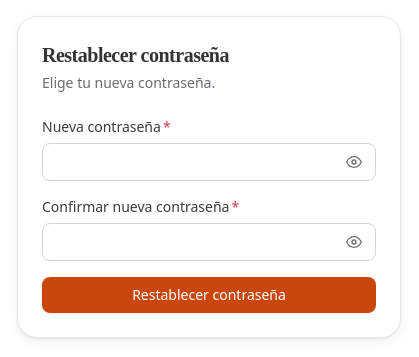
Test: ResetPasswordPage › restablece la contraseña con el token de la URL y muestra la confirmación de éxito
The width and height of the screenshot is (419, 357).
In the password field labelled "Nueva contraseña*": point(209, 162) 42,143 -> 376,181, type "nuevaClave1"
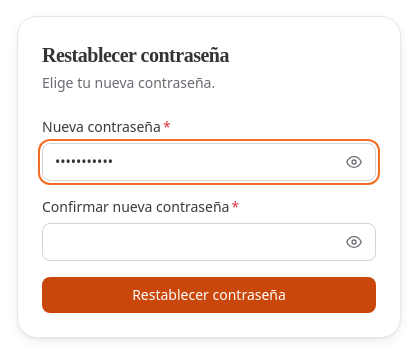
In the password field labelled "Confirmar nueva contraseña*": point(209, 242) 42,223 -> 376,261, type "nuevaClave1"
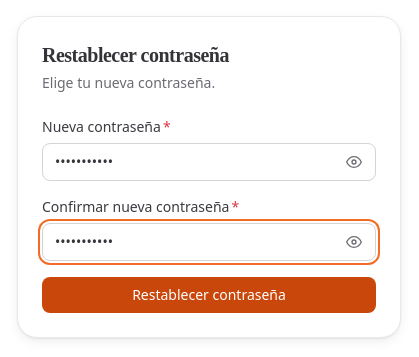
Click the button "Restablecer contraseña": point(209, 295) 42,277 -> 376,313
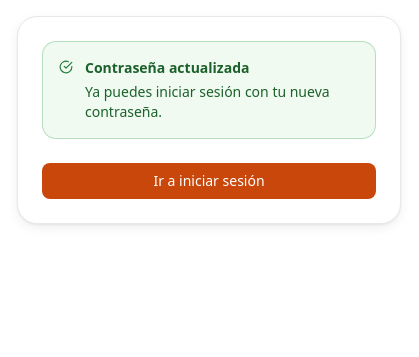
Expected: the text "Contraseña actualizada" is shown, 85,58 -> 250,77
